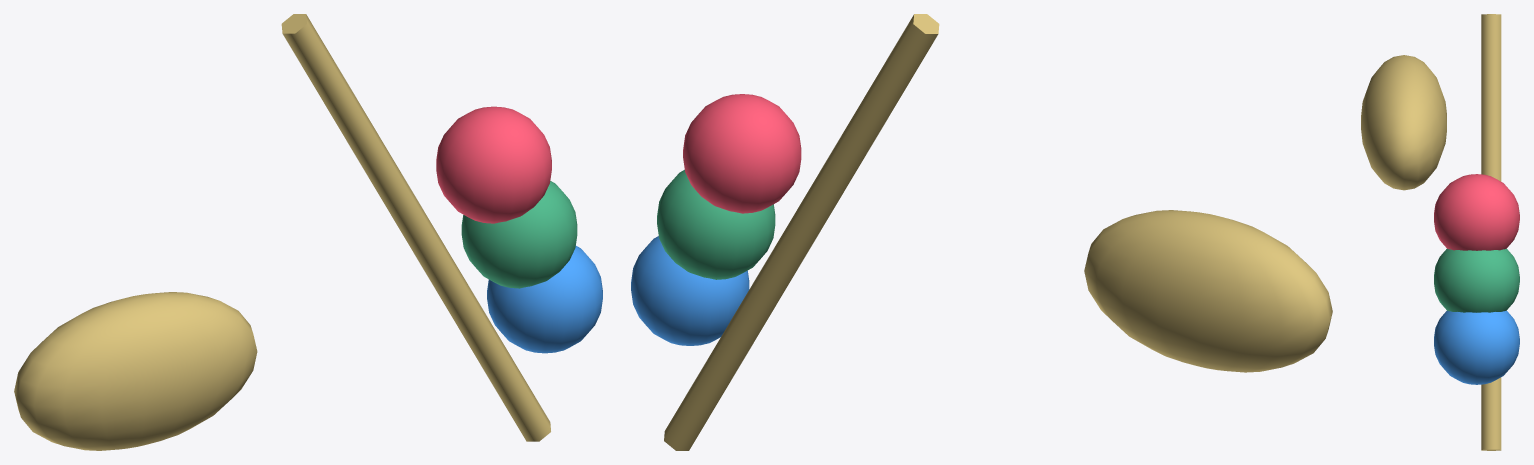
Rendered from head_ancient_4.glb.
The picture shows the model from 3 angles, left to right: view 1: azimuth 30°, elevation 25°; view 2: azimuth 150°, elevation 25°; view 3: azimuth 270°, elevation 25°; orthographic projection. The views are drawn at different scales.
Size of the model in its own units: 0.7955 by 0.5825 by 0.2345.
